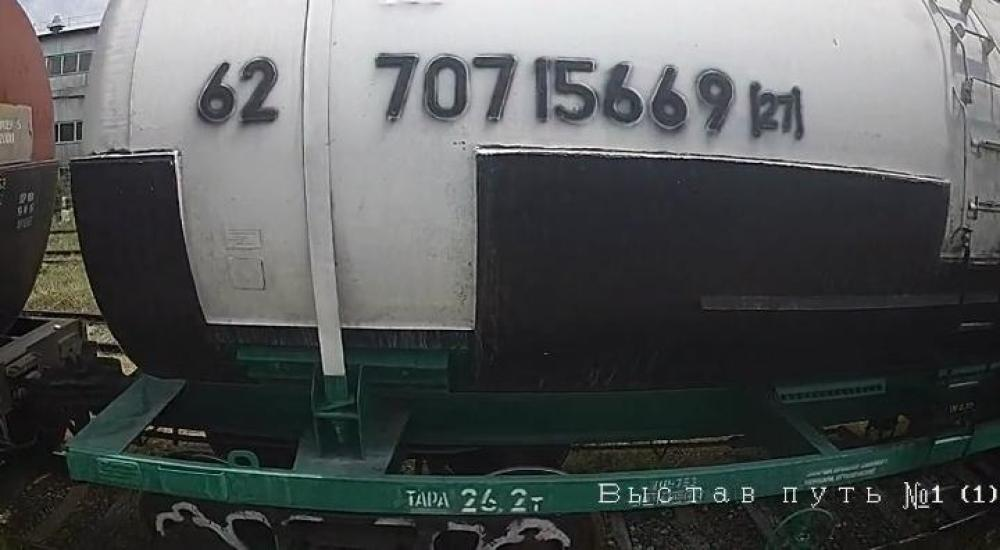Wagon-number: (368, 47, 739, 140)
